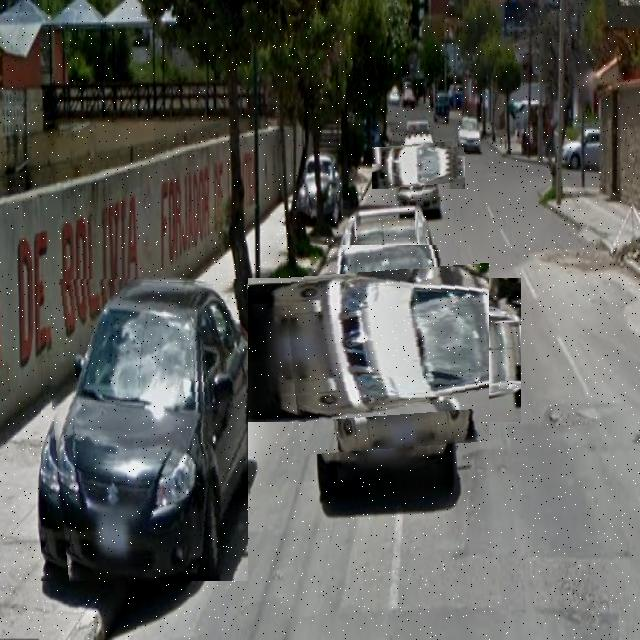car: (43, 280, 251, 582), (281, 246, 490, 456), (386, 135, 454, 203), (455, 114, 486, 153)
